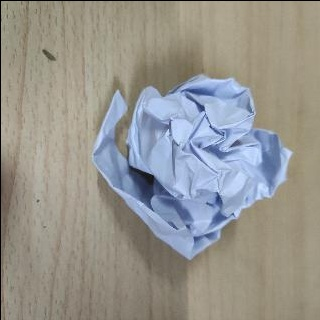8/可回收垃圾/纸: (89, 74, 294, 261)
